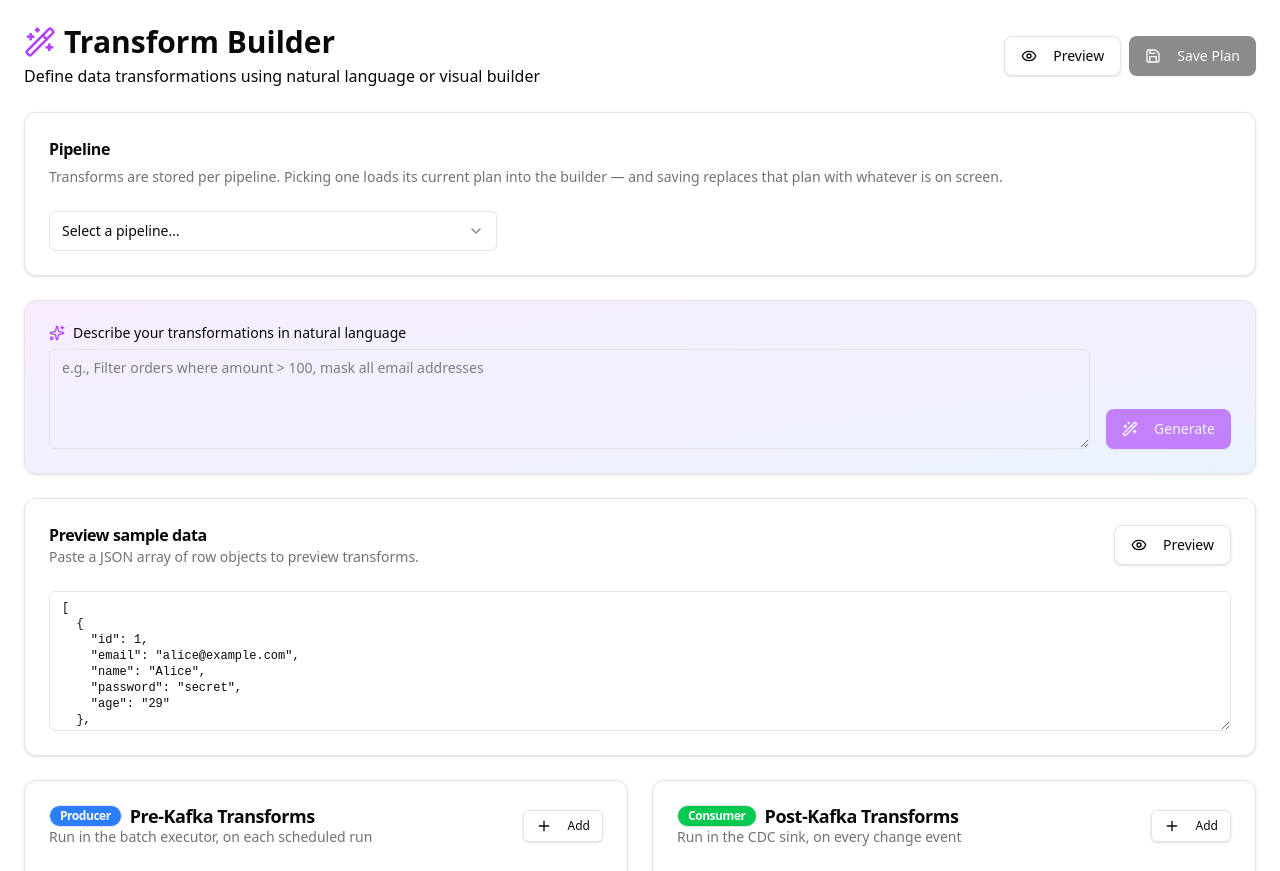
Transform Builder — saving a plan to a pipeline › renders a failed plan read as an error, not as an empty pipeline
Click the dropdown at (121, 230), box [49,211,497,251]
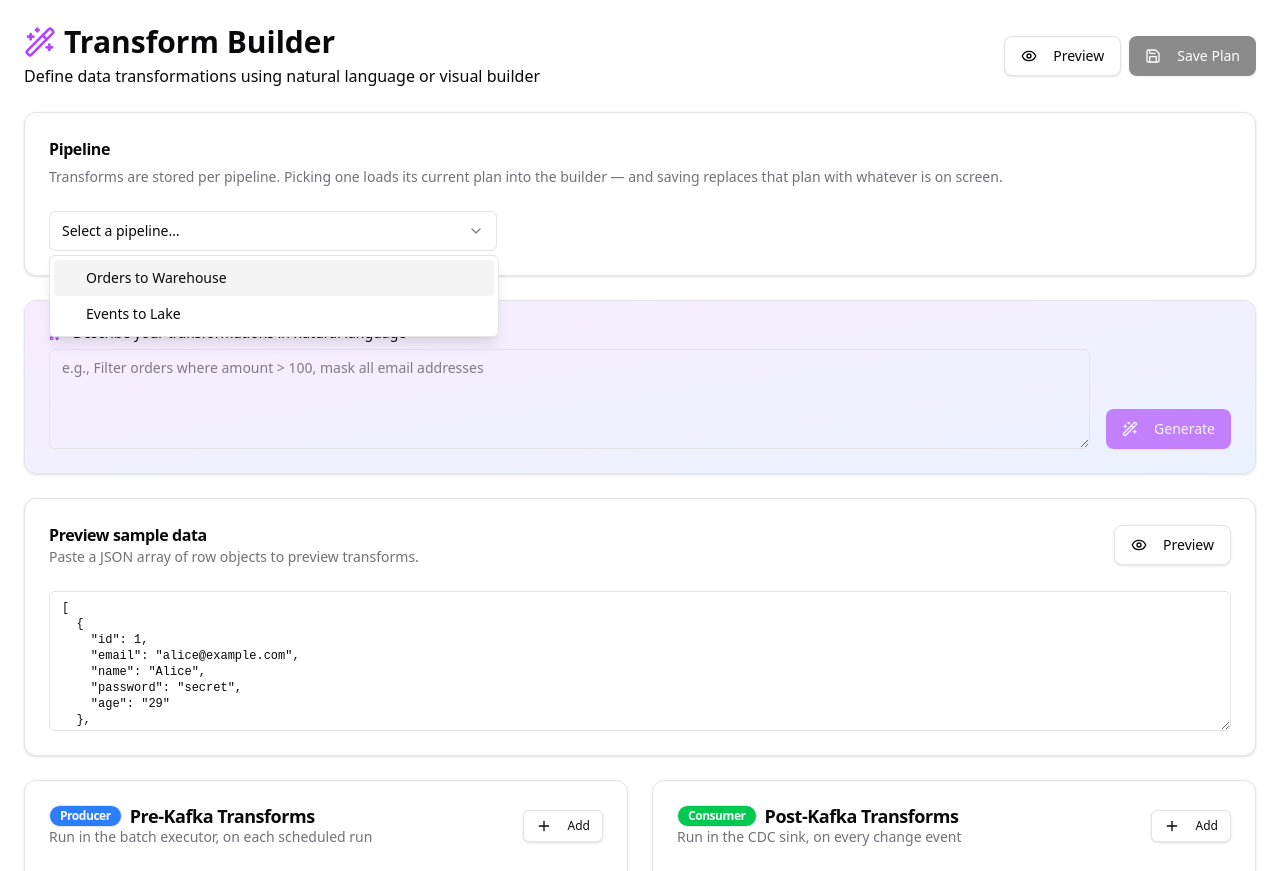
Click the option "Orders to Warehouse" at (156, 278), box [54,260,494,296]
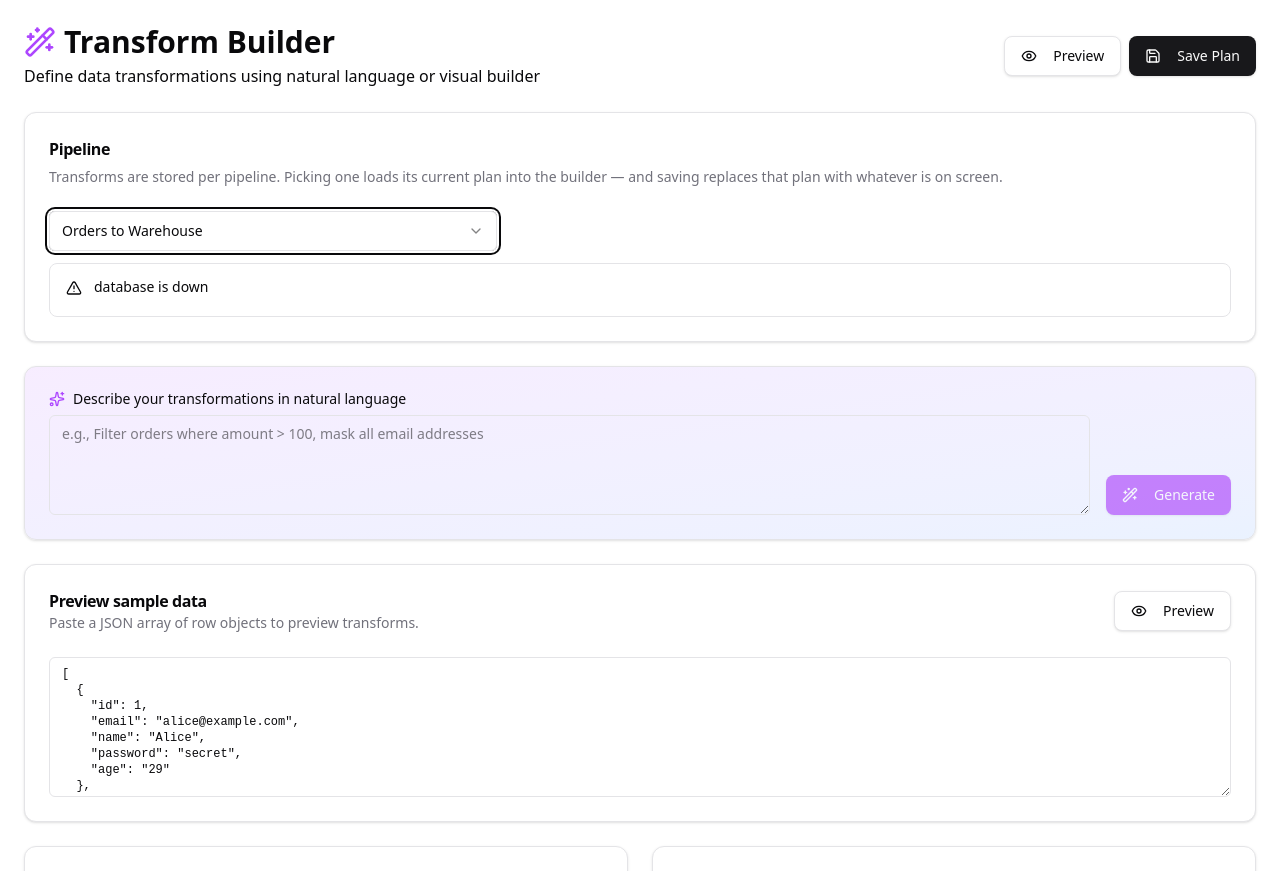
Check: the text "database is down" is shown, box [94,277,208,296]
